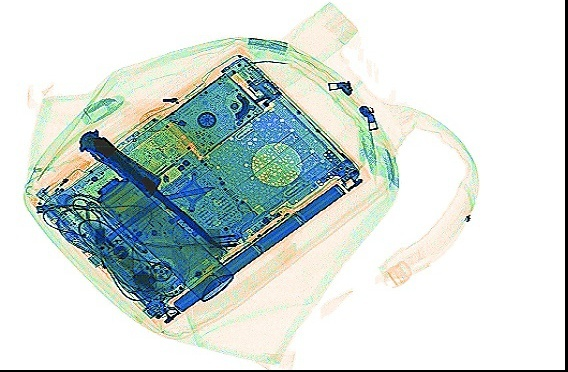knife: (91, 135, 225, 250), (76, 128, 163, 198)
lighter: (34, 156, 93, 203)
pressure: (95, 176, 235, 302)
